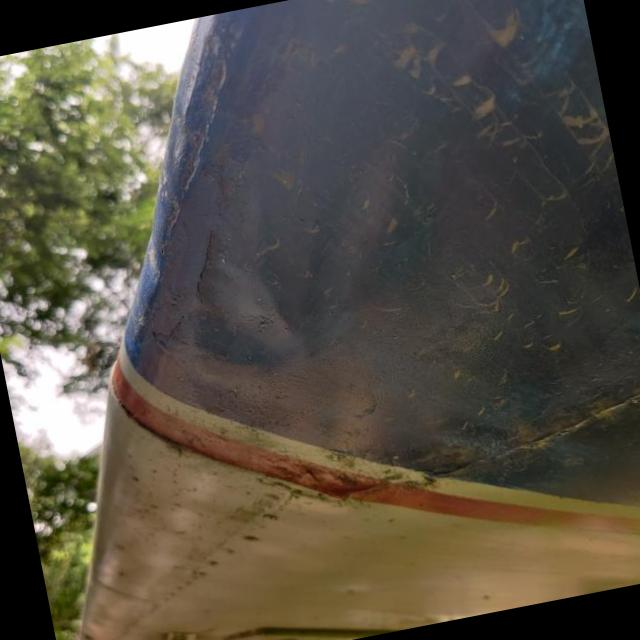Dent: (176, 230, 318, 379)
